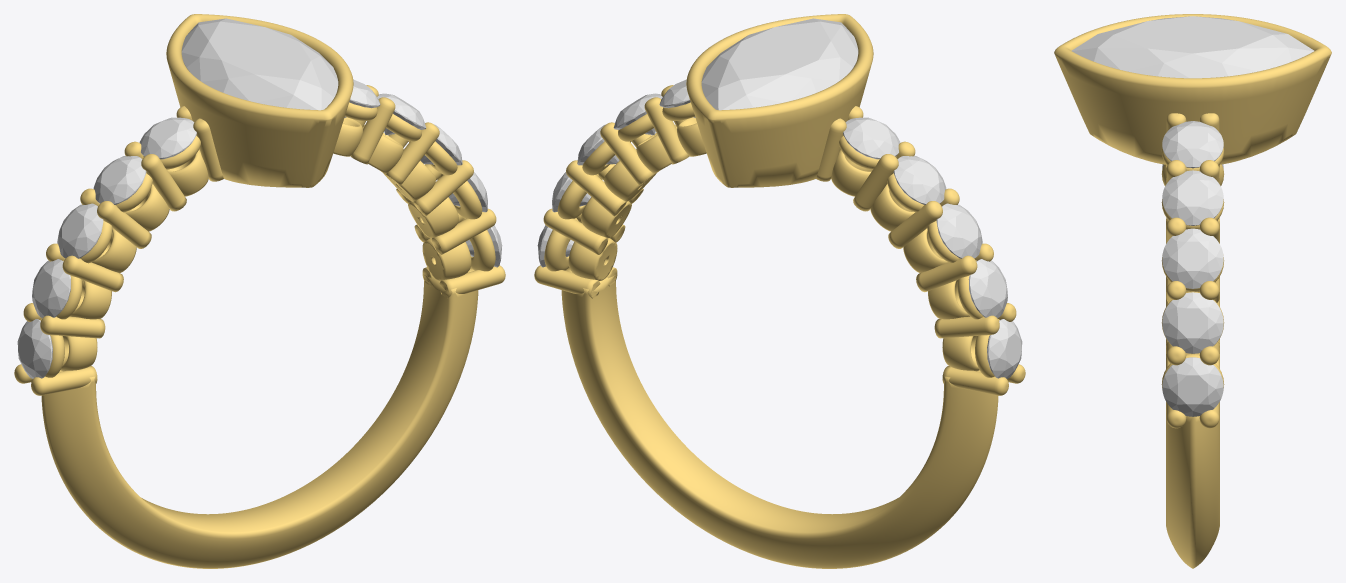
The model's file is diamond-marquise-yellowgold-bezelset-knifeedge-11stone.glb.
The picture shows the model from 3 angles, left to right: view 1: azimuth 30°, elevation 25°; view 2: azimuth 150°, elevation 25°; view 3: azimuth 270°, elevation 25°; orthographic projection.
Visible parts, largest first — view 1: metal.002, stone.002, dia.024, dia.025, dia.023, dia.026, dia.002, dia.030; view 2: metal.002, stone.002, dia.024, dia.025, dia.023, dia.026, dia.002, dia.030; view 3: metal.002, stone.002, dia.028, dia.029, dia.027, dia.030, dia.031.
Part boxes in pixels (<box>): metal.002: <box>14,14,505,568</box>; stone.002: <box>181,18,338,110</box>; dia.024: <box>57,203,103,258</box>; dia.025: <box>93,156,146,204</box>; dia.023: <box>32,259,70,318</box>; dia.026: <box>139,117,196,159</box>; dia.002: <box>17,319,52,378</box>; dia.030: <box>377,93,426,135</box>; metal.002: <box>534,14,1025,568</box>; stone.002: <box>701,18,858,110</box>; dia.024: <box>936,203,982,258</box>; dia.025: <box>893,156,946,204</box>; dia.023: <box>968,259,1007,318</box>; dia.026: <box>843,117,900,159</box>; dia.002: <box>987,319,1022,378</box>; dia.030: <box>613,93,662,135</box>; metal.002: <box>1054,14,1331,568</box>; stone.002: <box>1071,16,1314,78</box>; dia.028: <box>1162,292,1223,353</box>; dia.029: <box>1162,228,1223,288</box>; dia.027: <box>1162,357,1223,416</box>; dia.030: <box>1162,170,1223,225</box>; dia.031: <box>1162,121,1223,168</box>.
Bounding box in the file's own units: 22.1 × 22.93 × 11.31.
